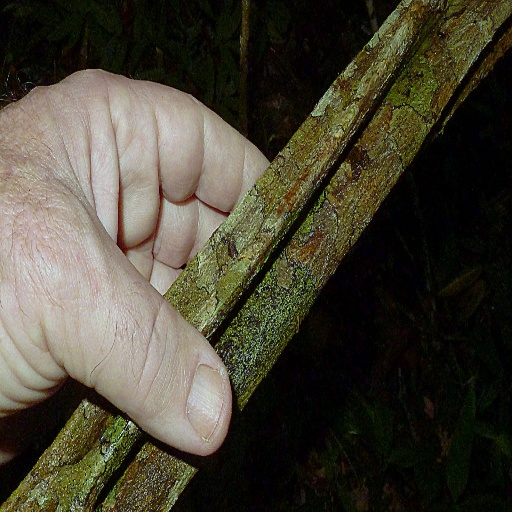hand: (7, 40, 261, 361)
